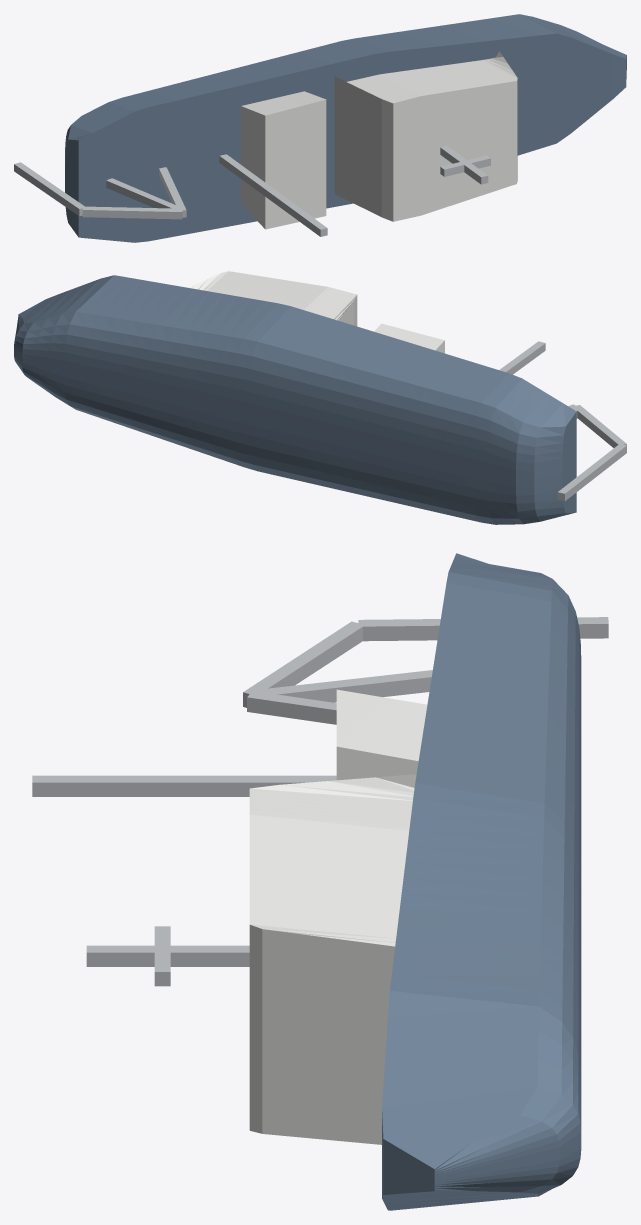
File: mine-clearance-loft.glb
The picture shows the model from 3 angles, top to bottom: view 1: azimuth 30°, elevation 25°; view 2: azimuth 150°, elevation 25°; view 3: azimuth 270°, elevation 25°; orthographic projection. The views are drawn at different scales.
Visible parts, largest first — view 1: mine-clearance; view 2: mine-clearance; view 3: mine-clearance.
Boxes of the visible parts, box(x1,y1,x2,y2) form: mine-clearance: box(14, 14, 626, 242); mine-clearance: box(14, 271, 626, 524); mine-clearance: box(32, 553, 608, 1210).
Bounding box in the file's own units: 1.96 × 0.4791 × 0.8598.
